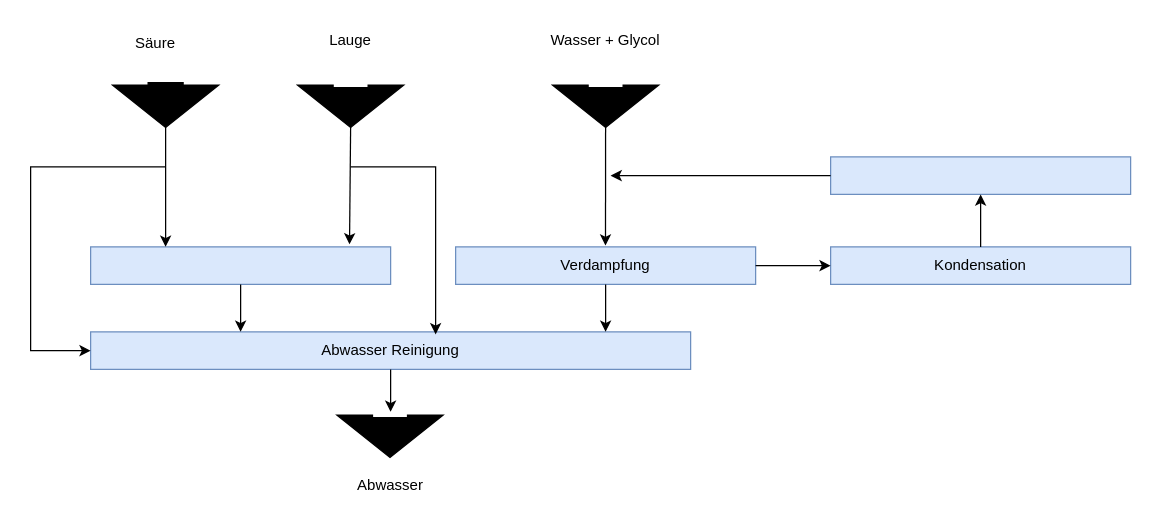
Some shapes in this 1153 by 525 pixel diagram are drawn without their labels. Each missing label, with the centre of its shape:
"Neutralisation" belongs at point (240, 265).
"Rückgewinnung" belongs at point (980, 175).
